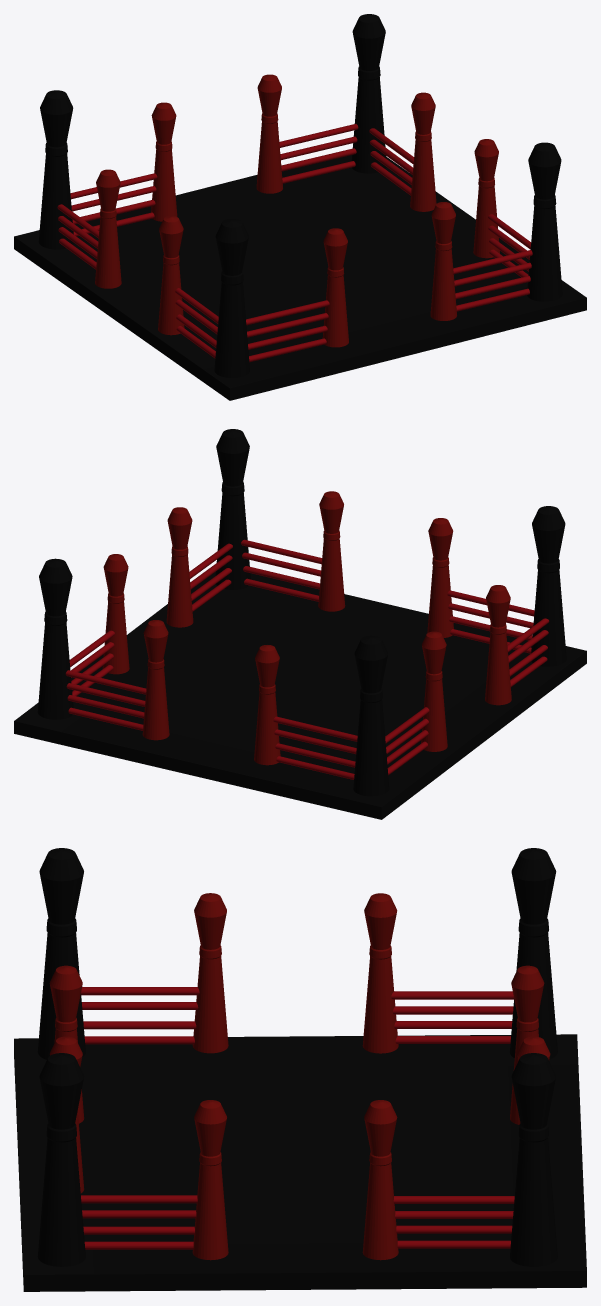
The model's file is BattleArena23.fbx.
3 renders of one model, top to bottom at view 1: azimuth 30°, elevation 25°; view 2: azimuth 150°, elevation 25°; view 3: azimuth 270°, elevation 25°, orthographic. The views are drawn at different scales.
Visible parts, largest first — view 1: Cube, Cylinder.004, Cylinder.001, Cylinder.023, Cylinder.002, Cylinder.003, Cylinder.022, Cylinder.005, Cylinder.019, Cylinder.020, Cylinder.021, Cylinder.016 (+14 smaller); view 2: Cube, Cylinder.001, Cylinder.004, Cylinder.021, Cylinder.002, Cylinder.003, Cylinder.020, Cylinder.019, Cylinder.005, Cylinder.023, Cylinder.022, Cylinder.025 (+15 smaller); view 3: Cube, Cylinder.004, Cylinder.001, Cylinder.021, Cylinder.022, Cylinder.020, Cylinder.023, Cylinder.019, Cylinder.027, Cylinder.015, Cylinder.013, Cylinder.005 (+6 smaller).
Part boxes in pixels (<box>): Cube: <box>14,155,586,400</box>; Cylinder.004: <box>214,142,562,378</box>; Cylinder.001: <box>38,14,386,249</box>; Cylinder.023: <box>95,169,121,288</box>; Cylinder.002: <box>256,74,282,193</box>; Cylinder.003: <box>430,202,456,320</box>; Cylinder.022: <box>410,92,436,211</box>; Cylinder.005: <box>322,228,348,347</box>; Cylinder.019: <box>151,102,177,221</box>; Cylinder.020: <box>158,216,184,335</box>; Cylinder.021: <box>473,139,499,258</box>; Cylinder.016: <box>246,300,329,337</box>; Cube: <box>14,572,586,819</box>; Cylinder.001: <box>37,558,389,796</box>; Cylinder.004: <box>215,429,566,666</box>; Cylinder.021: <box>166,507,193,627</box>; Cylinder.002: <box>142,620,169,740</box>; Cylinder.003: <box>318,491,345,611</box>; Cylinder.020: <box>485,585,511,705</box>; Cylinder.019: <box>254,645,280,765</box>; Cylinder.005: <box>427,518,453,637</box>; Cylinder.023: <box>421,631,447,751</box>; Cylinder.022: <box>102,554,129,674</box>; Cylinder.025: <box>273,716,357,754</box>; Cube: <box>14,1034,586,1291</box>; Cylinder.004: <box>37,848,85,1266</box>; Cylinder.001: <box>510,848,557,1266</box>; Cylinder.021: <box>192,1100,228,1260</box>; Cylinder.022: <box>362,1100,398,1260</box>; Cylinder.020: <box>192,893,228,1053</box>; Cylinder.023: <box>362,893,398,1053</box>; Cylinder.019: <box>510,965,544,1124</box>; Cylinder.027: <box>391,991,513,1014</box>; Cylinder.015: <box>81,1195,197,1218</box>; Cylinder.013: <box>396,1225,512,1248</box>; Cylinder.005: <box>49,965,84,1123</box>.
Bounding box in the file's own units: 10174 × 4294 × 10236.
